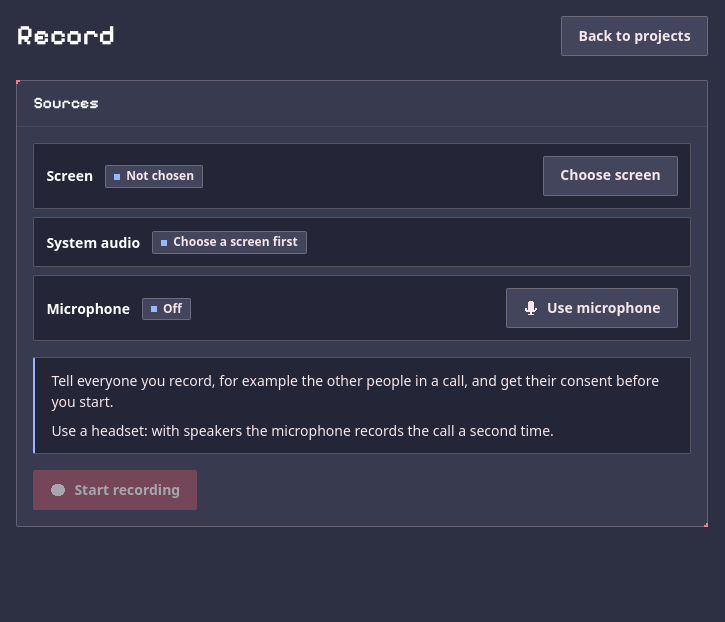
it: RecorderComponent › says the desktop window has no system audio outside Windows
Click the button "Choose screen" at {"x": 610, "y": 176}, box [543,156,678,196]
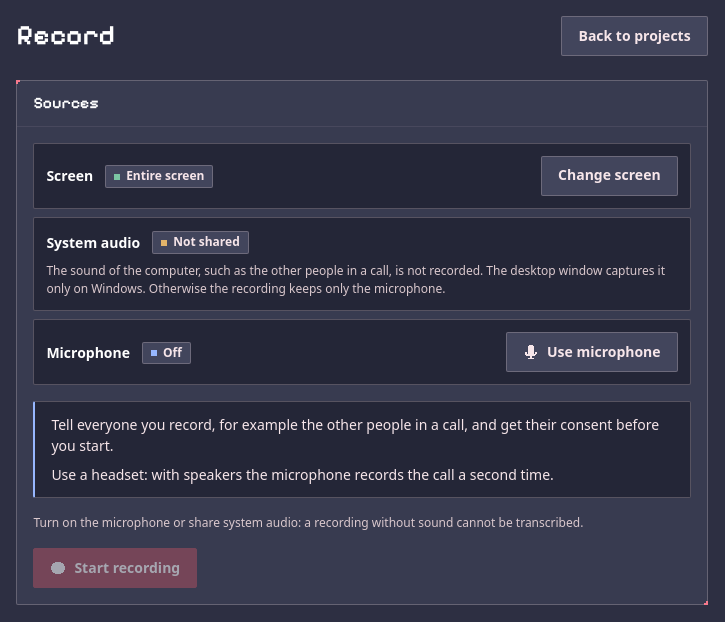
Expected: the text "Share system audio" is not shown
Expected: the text "Not shared" is shown, [152,231,249,254]
Expected: the text "captures it only on Windows" is shown, [46,262,665,297]
